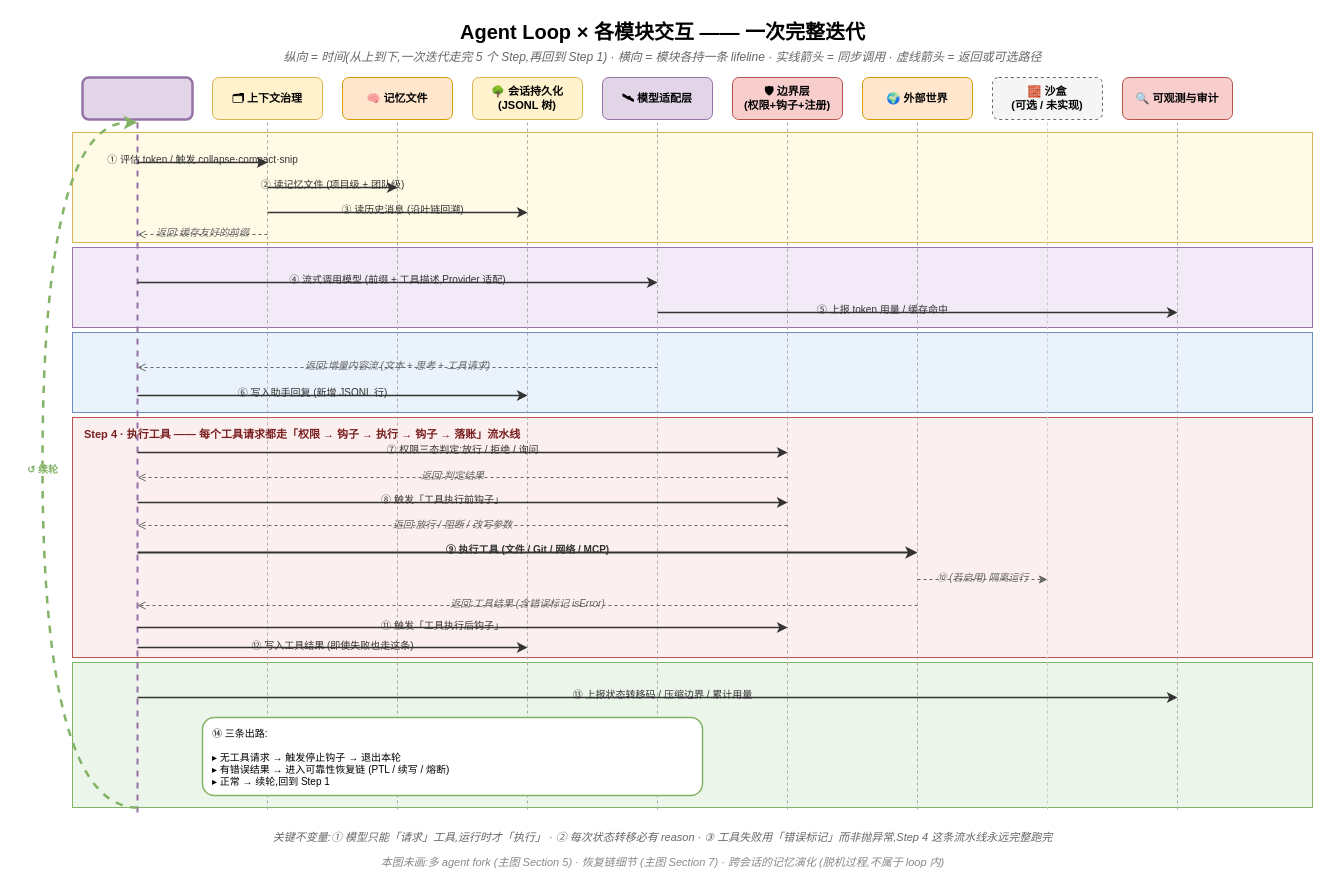
Image size: 1330x889. Some labels were removed from this diagram. Each missing label, with the box of its shape:
Step 1 · 治理上下文 —— 准备本轮要喂给模型的内容: (72, 132, 1312, 242)
Step 2 · 调模型 —— 把前缀 + 工具描述发给 Provider: (72, 246, 1312, 328)
Step 3 · 流式消费 —— 把模型回流落到持久层: (72, 332, 1312, 412)
Step 5 · 决策分支 —— 判定本轮是退出 / 进恢复 / 续轮: (72, 662, 1312, 808)
🔄 主循环 Agent Loop: (81, 76, 193, 120)
